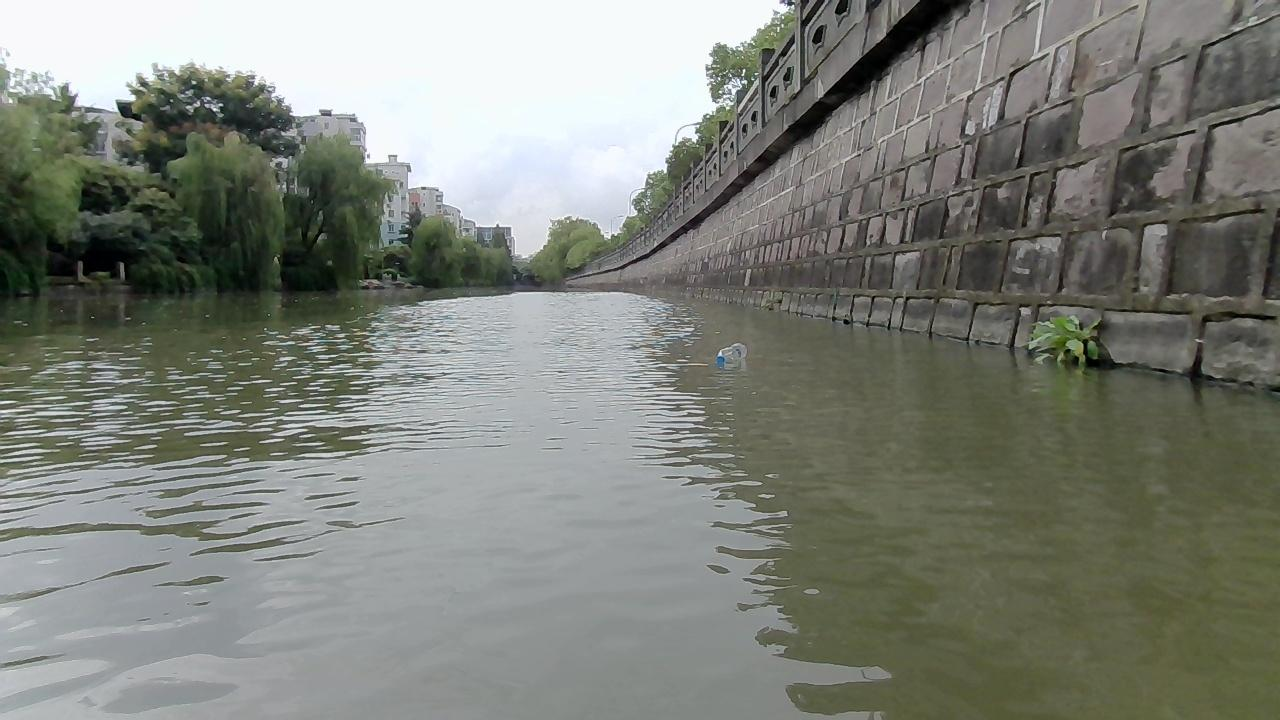bottle: (715, 341, 747, 362)
